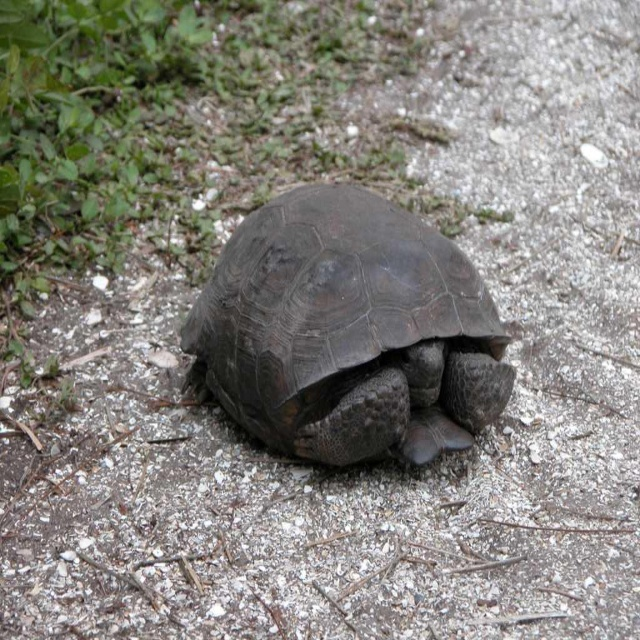Sea turtle: (179, 184, 516, 467)
